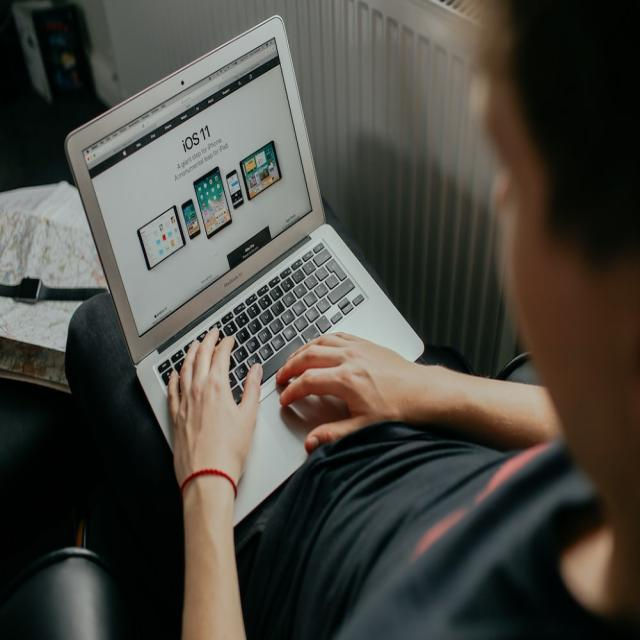keyboard-with-hands: (139, 228, 423, 535)
